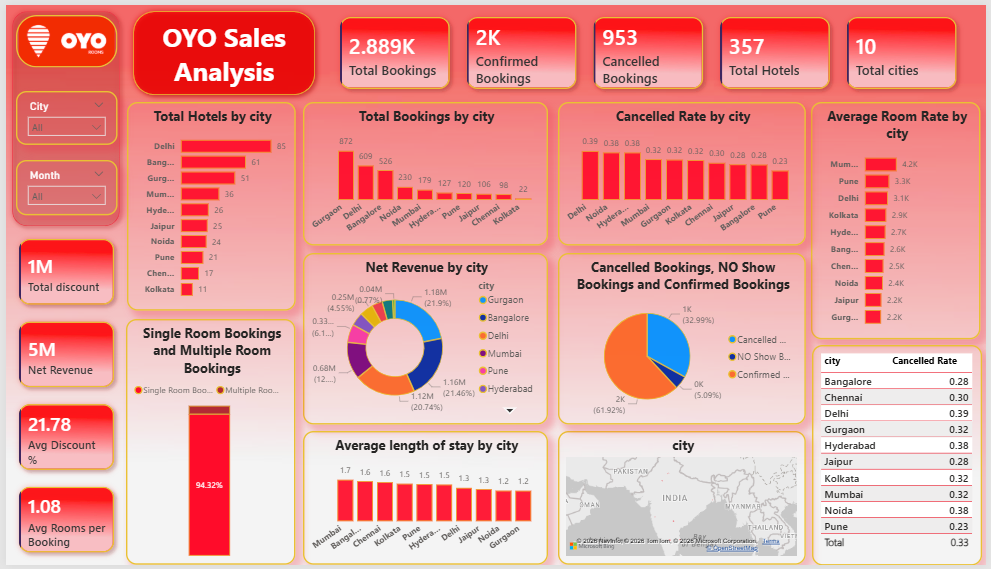

The page's visual inventory and layout, read from the dashboard file:
{"tool":"powerbi","page":{"name":"Page ","canvas":[1400,800],"ordinal":0},"visuals":[{"type":"shape","box":[0,0,171.2,325],"z":0},{"type":"image","box":[13.9,13.9,144.9,75.2],"z":1000},{"type":"cardVisual","fields":{"Data":["All Measure.Total Bookings","All Measure.Confirmed Bookings","All Measure.Cancelled Bookings","All Measure.Total Hotels","All Measure.Total cities"]},"box":[460,0,917.5,137.5],"z":2000},{"type":"barChart","fields":{"Category":["Oyo_City.city"],"Y":["All Measure.Total Hotels"]},"box":[172.7,137.9,241,298.1],"z":3000},{"type":"filledMap","fields":{"Category":["Oyo_City.city"]},"box":[788.8,608.8,353.8,191.2],"z":4000},{"type":"columnChart","fields":{"Category":["Oyo_City.city"],"Y":["All Measure.Total Bookings"]},"box":[424.9,137.9,349.7,204.8],"z":5000},{"type":"barChart","fields":{"Category":["Oyo_City.city"],"Y":["All Measure.Average Room Rate"]},"box":[1150.6,137.9,242.4,338.5],"z":6000},{"type":"columnChart","fields":{"Category":["Oyo_City.city"],"Y":["All Measure.Cancelled Rate"]},"box":[788.5,137.9,353.8,204.8],"z":7000},{"type":"pieChart","fields":{"Y":["All Measure.Cancelled Bookings","All Measure.NO Show Bookings","All Measure.Confirmed Bookins"]},"box":[788.5,353.8,353.8,245.2],"z":8000},{"type":"donutChart","fields":{"Y":["All Measure.Net Revenue"],"Category":["Oyo_City.city"]},"box":[424.9,353.8,349.7,245.2],"z":9000},{"type":"hundredPercentStackedColumnChart","fields":{"Y":["All Measure.Single Room Bookings","All Measure.Multiple Room Bookings"]},"box":[171.3,448.6,242.4,351],"z":10000},{"type":"clusteredColumnChart","fields":{"Y":["All Measure.Average length of stay"],"Category":["Oyo_City.city"]},"box":[424.9,608.8,349.7,190.8],"z":11000},{"type":"tableEx","fields":{"Values":["Oyo_City.city","All Measure.Cancelled Rate"]},"box":[1151.2,485,242.5,315],"z":12000},{"type":"slicer","fields":{"Values":["Oyo_Sales1.Month"]},"box":[13.9,221.5,144.9,79.4],"z":13000},{"type":"slicer","fields":{"Values":["Oyo_City.city"]},"box":[13.9,122.6,144.9,76.6],"z":14000},{"type":"cardVisual","fields":{"Data":["All Measure.Total discount","All Measure.Net Revenue","All Measure.Avg Discount %","All Measure.Avg Rooms per Booking"]},"box":[1.3,316.5,170.9,482.3],"z":15000},{"type":"shape","box":[172.5,0,277.5,137.5],"z":17000}]}

Visuals, with their boxes in screenshot pixels (x1, y1, x2, y2), scaled from the page's 1400x800 canvas onto the 991x569 screenshot:
shape: select_region(0, 0, 121, 231)
image: select_region(10, 10, 112, 63)
cardVisual - All Measure.Total Bookings x All Measure.Confirmed Bookings: select_region(326, 0, 975, 98)
barChart - Oyo_City.city x All Measure.Total Hotels: select_region(122, 98, 293, 310)
filledMap - Oyo_City.city: select_region(558, 433, 809, 568)
columnChart - Oyo_City.city x All Measure.Total Bookings: select_region(301, 98, 548, 244)
barChart - Oyo_City.city x All Measure.Average Room Rate: select_region(814, 98, 986, 339)
columnChart - Oyo_City.city x All Measure.Cancelled Rate: select_region(558, 98, 809, 244)
pieChart - All Measure.Cancelled Bookings x All Measure.NO Show Bookings: select_region(558, 252, 809, 426)
donutChart - All Measure.Net Revenue x Oyo_City.city: select_region(301, 252, 548, 426)
hundredPercentStackedColumnChart - All Measure.Single Room Bookings x All Measure.Multiple Room Bookings: select_region(121, 319, 293, 568)
clusteredColumnChart - All Measure.Average length of stay x Oyo_City.city: select_region(301, 433, 548, 568)
tableEx - Oyo_City.city x All Measure.Cancelled Rate: select_region(815, 345, 987, 568)
slicer - Oyo_Sales1.Month: select_region(10, 158, 112, 214)
slicer - Oyo_City.city: select_region(10, 87, 112, 142)
cardVisual - All Measure.Total discount x All Measure.Net Revenue: select_region(1, 225, 122, 568)
shape: select_region(122, 0, 319, 98)
